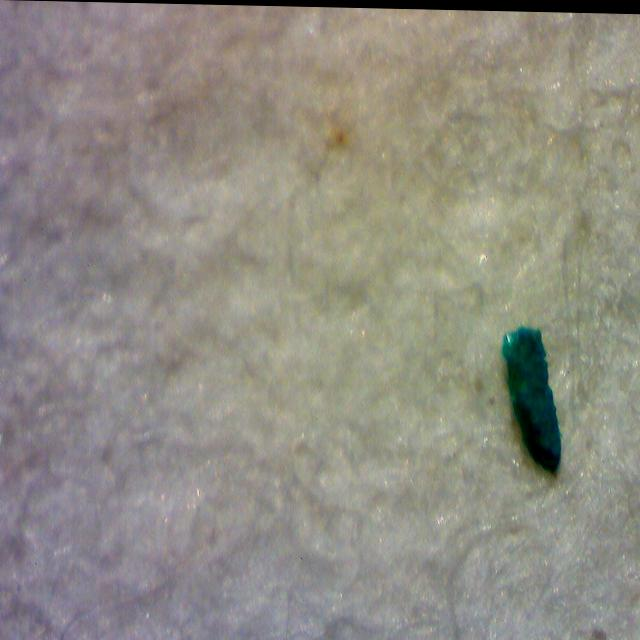microplastic: (499, 324, 561, 478)
